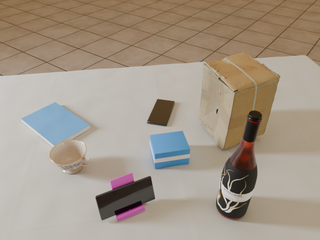book: (21, 102, 90, 147)
bottle: (216, 110, 262, 220)
box: (199, 52, 280, 150), (150, 131, 190, 169)
cup: (50, 140, 92, 174)
phone: (95, 176, 155, 220), (147, 99, 175, 126)
